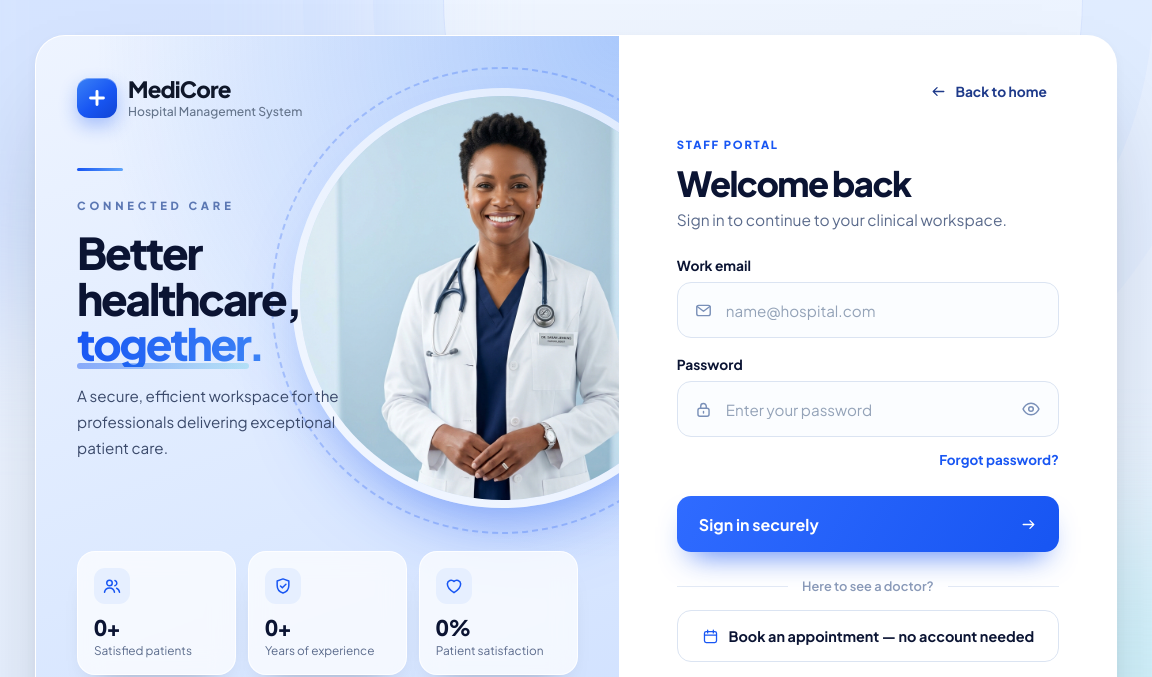
LoginPage › shows the server message when sign in fails
In the field labelled "Work email": (868,310) [678, 283, 1058, 337], type "dr@medicore.lk"
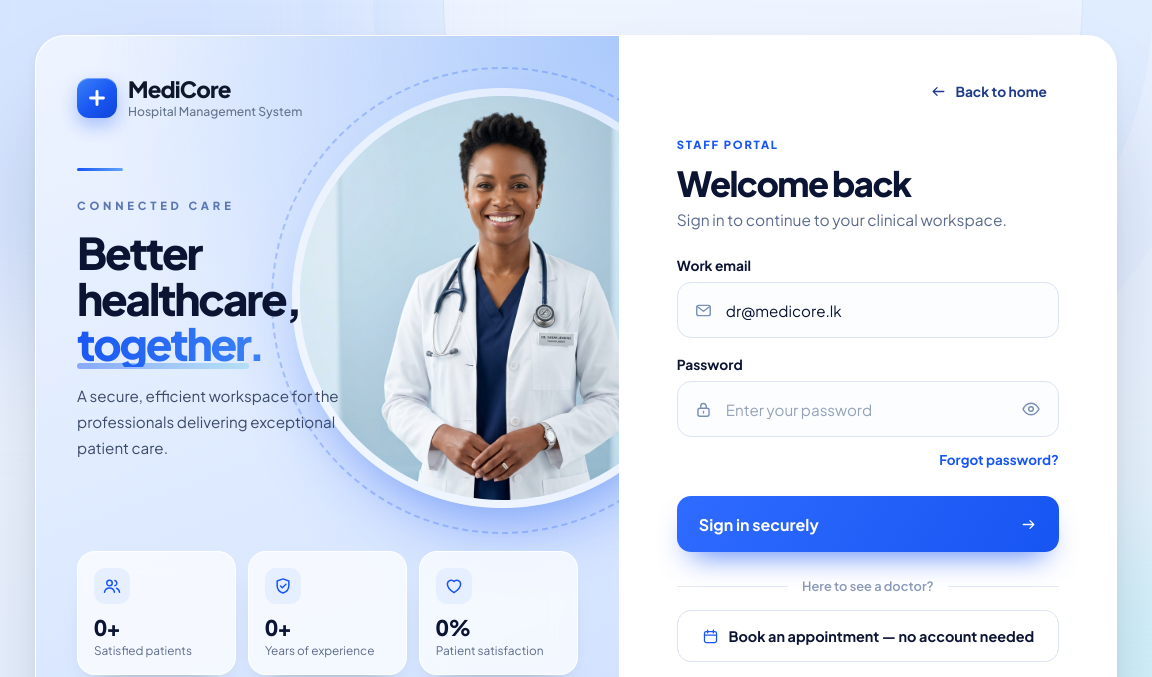
In the password field labelled "Password": (868,409) [678, 382, 1058, 436], type "wrong"
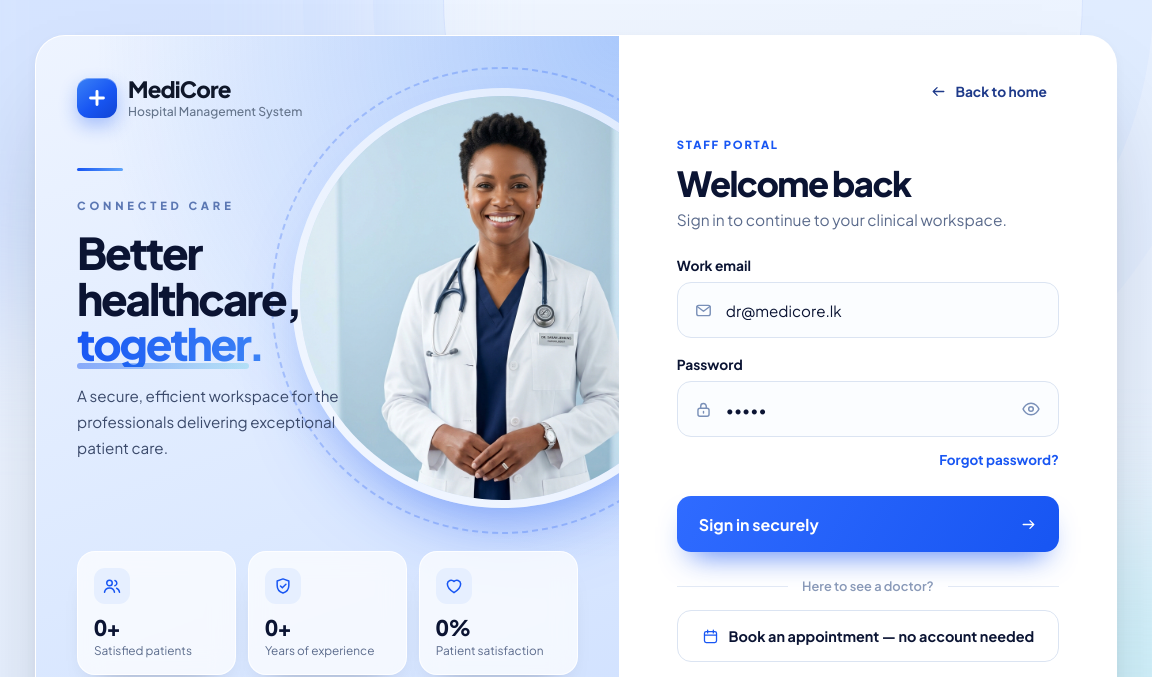
Click the button "Sign in securely": (759,524) [677, 496, 1059, 552]
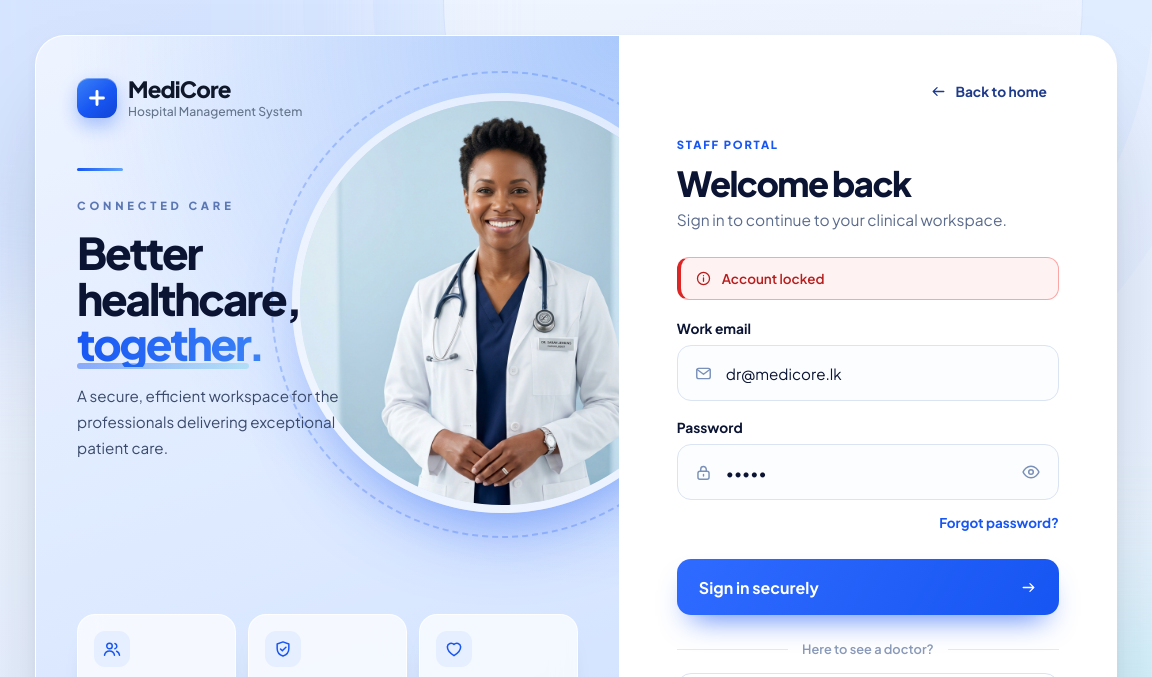
Check: the message reads "Account locked", box [722, 270, 824, 287]
